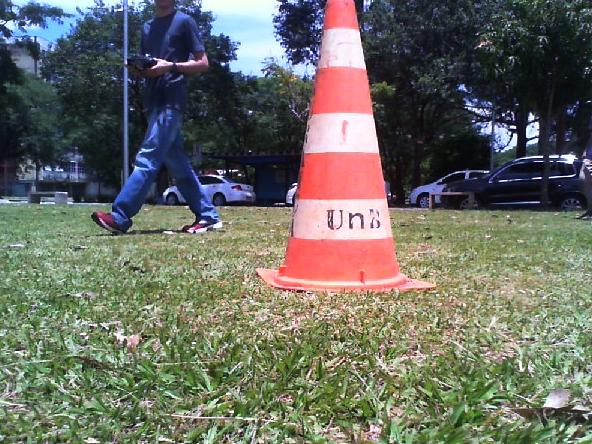0 cone: (255, 0, 437, 295)
